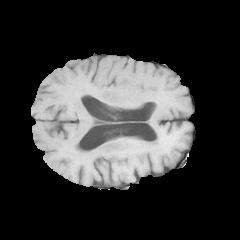glioma: (77, 135, 164, 160)
